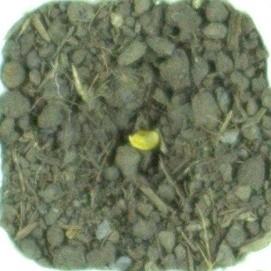pepper seed: (45, 50, 208, 202)
